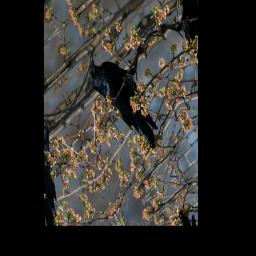Crow: (80, 17, 174, 173)
